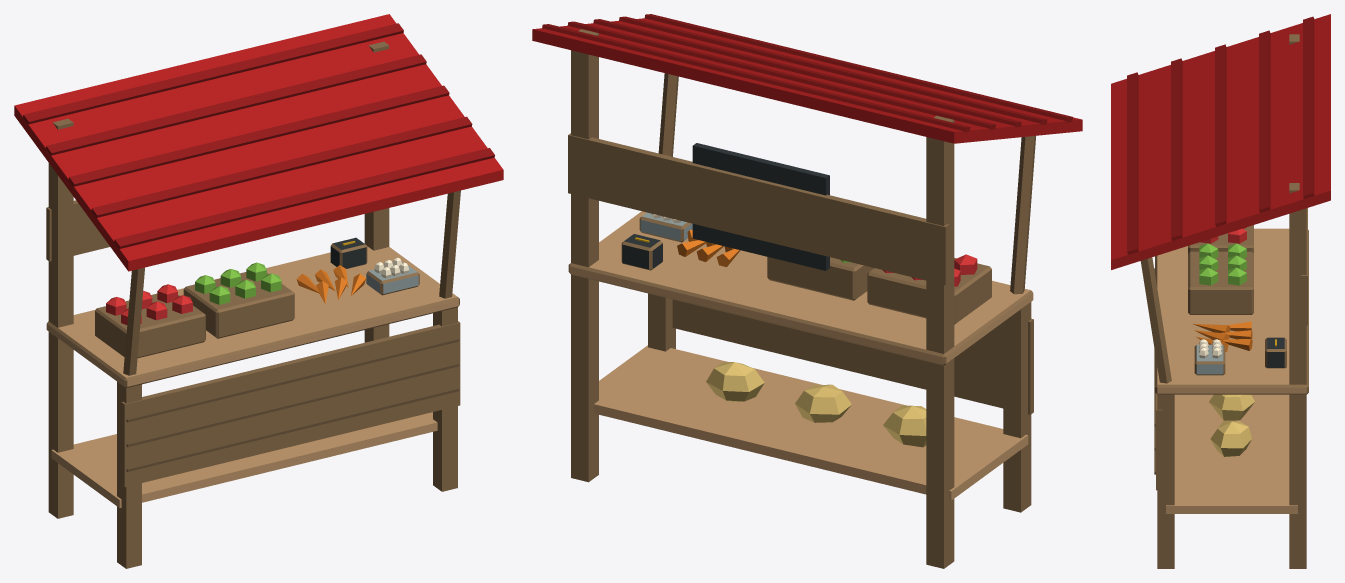
Rendered from hofladen.glb.
3 views of the same model, side by side, from view 1: azimuth 30°, elevation 25°; view 2: azimuth 150°, elevation 25°; view 3: azimuth 270°, elevation 25° (orthographic). The views are drawn at different scales.
Visible parts, largest first — view 1: hofladen-m; view 2: hofladen-m; view 3: hofladen-m.
Boxes of the visible parts, <box> form: hofladen-m: <box>14,14,503,568</box>; hofladen-m: <box>532,14,1082,568</box>; hofladen-m: <box>1111,14,1330,568</box>.
Size of the model in its own units: 1.9 by 1.95 by 1.
